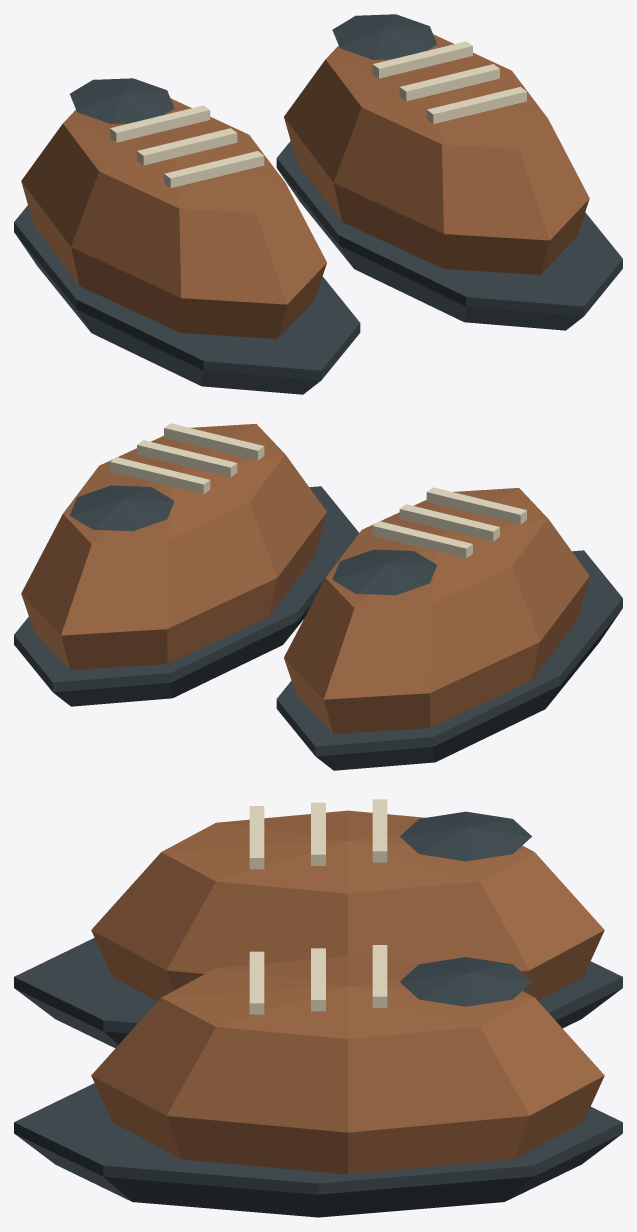
Rendered from shoes.glb.
3 renders of one model, top to bottom at view 1: azimuth 30°, elevation 25°; view 2: azimuth 150°, elevation 25°; view 3: azimuth 270°, elevation 25°, orthographic. The views are drawn at different scales.
Parts seen in each view (by area): view 1: shoes; view 2: shoes; view 3: shoes.
Part boxes in pixels (x1,y1,x2,y2): shoes: [14, 14, 622, 394]; shoes: [14, 423, 622, 770]; shoes: [14, 799, 622, 1217].
Size of the model in its own units: 0.258 by 0.087 by 0.2478.
